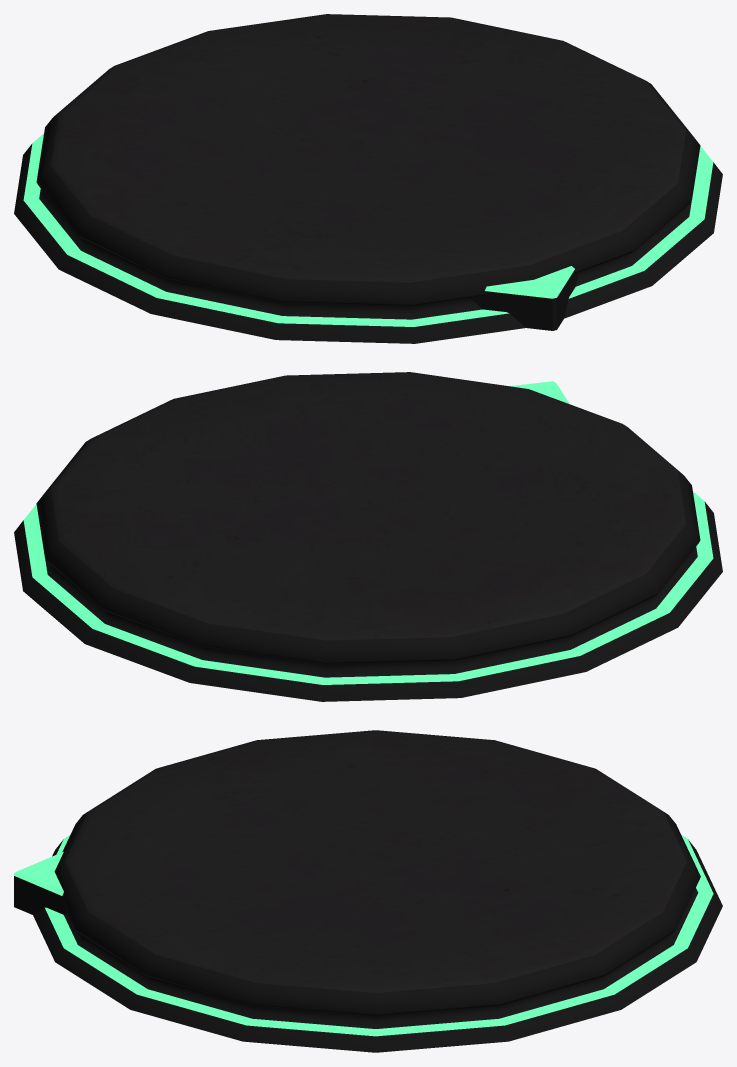
The model's file is jb2around2Indicator.glb.
The picture shows the model from 3 angles, top to bottom: view 1: azimuth 30°, elevation 25°; view 2: azimuth 150°, elevation 25°; view 3: azimuth 270°, elevation 25°; orthographic projection. The views are drawn at different scales.
Parts seen in each view (by area): view 1: base, ForwardMaker.005; view 2: base; view 3: base, ForwardMaker.005.
Boxes of the visible parts, bbox=[...] form: base: bbox=[14, 14, 722, 343]; ForwardMaker.005: bbox=[471, 266, 578, 330]; base: bbox=[14, 372, 722, 701]; base: bbox=[33, 730, 722, 1052]; ForwardMaker.005: bbox=[14, 851, 66, 914].
Bounding box in the file's own units: 2 × 0.1473 × 2.04.
Materials: 3 (1 with a texture image).
